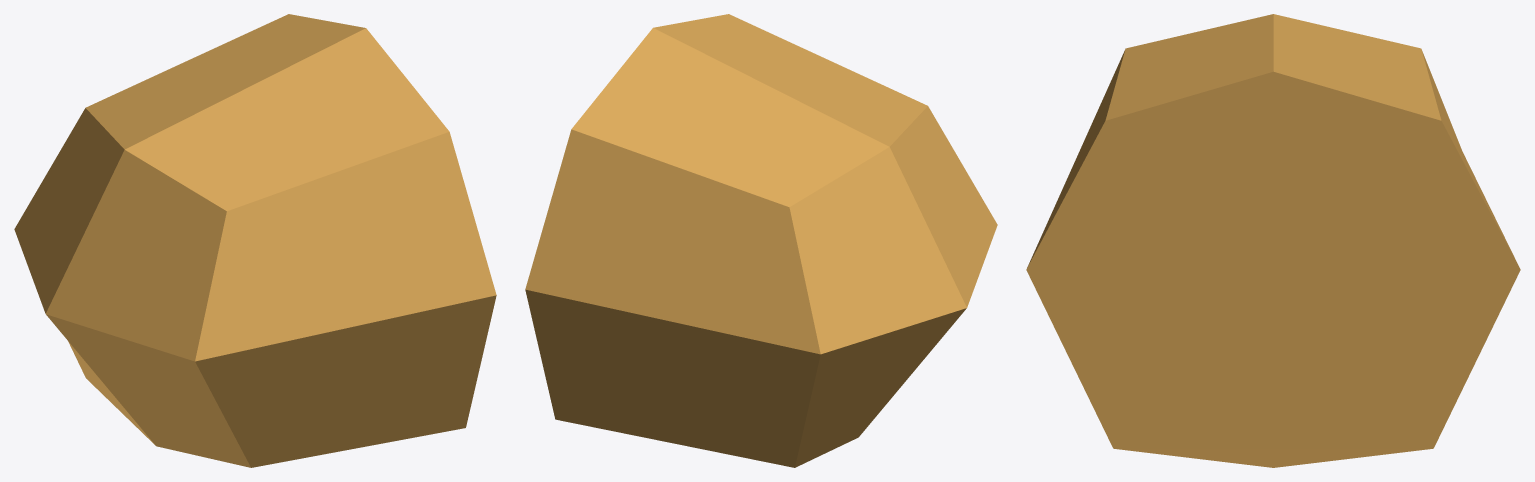
File: potatoHalf02.fbx
3 renders of one model, left to right at view 1: azimuth 30°, elevation 25°; view 2: azimuth 150°, elevation 25°; view 3: azimuth 270°, elevation 25°, orthographic. The views are drawn at different scales.
Parts seen in each view (by area): view 1: potatoHalf02; view 2: potatoHalf02; view 3: potatoHalf02.
Boxes of the visible parts, x1,y1,x2,y2 form: potatoHalf02: (14,14,496,467); potatoHalf02: (525,14,997,467); potatoHalf02: (1026,14,1520,467).
Bounding box in the file's own units: 7.61 × 7.74 × 9.04.
1 material, 1 textured.
